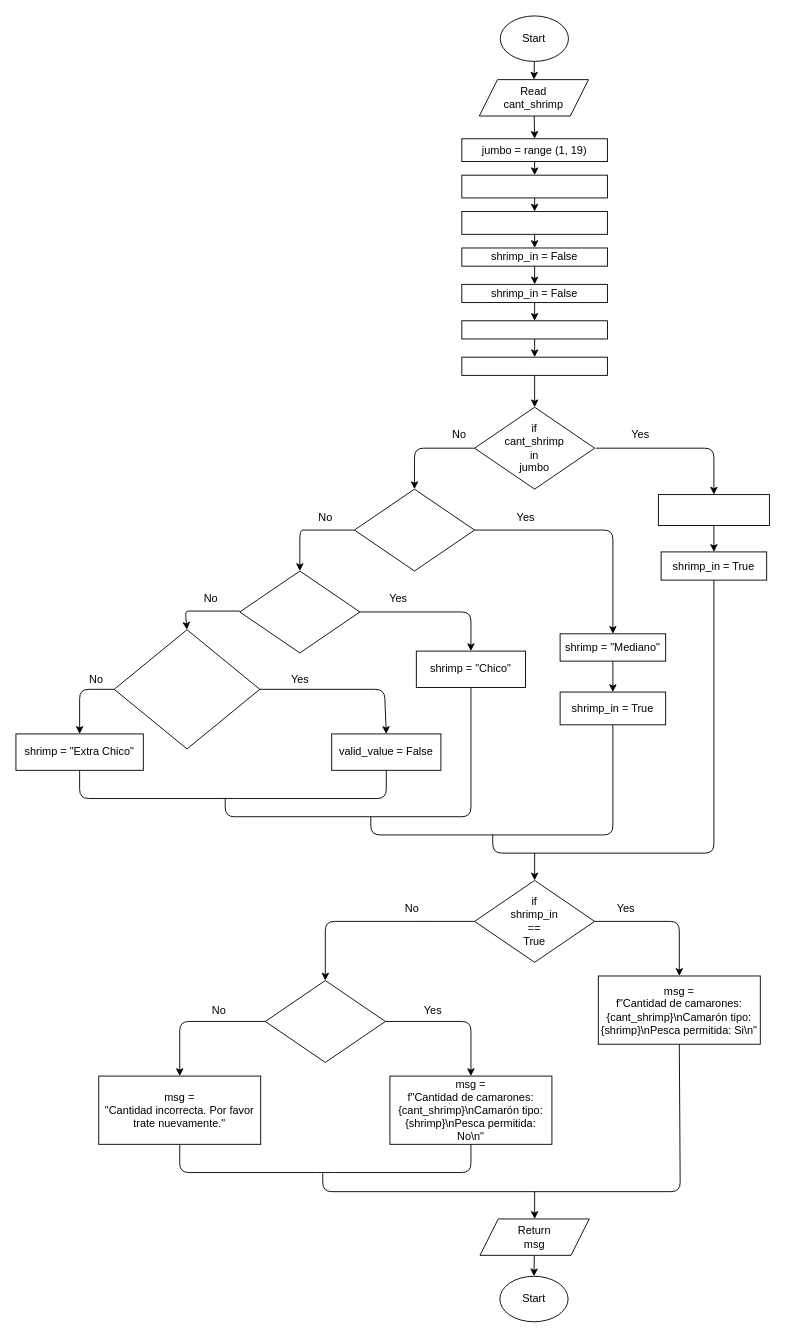
This 785x1338 diagram has some shape labels left out. Here are the shapes that lost their labels. From the top down, the box of each, then its label:
(461, 174, 607, 198): medium = range (18, 39)
(461, 211, 607, 234): small = range (39, 56)
(461, 320, 607, 339): valid_value = True
(461, 356, 607, 375): shrimp = ""
(354, 488, 475, 571): if cant_shrimp in medium
(657, 494, 769, 526): shrimp = "Jumbo"
(239, 570, 360, 653): if cant_shrimp in small
(113, 629, 260, 749): if cant_shrimp < 1
(264, 980, 385, 1062): if valid_value != False
